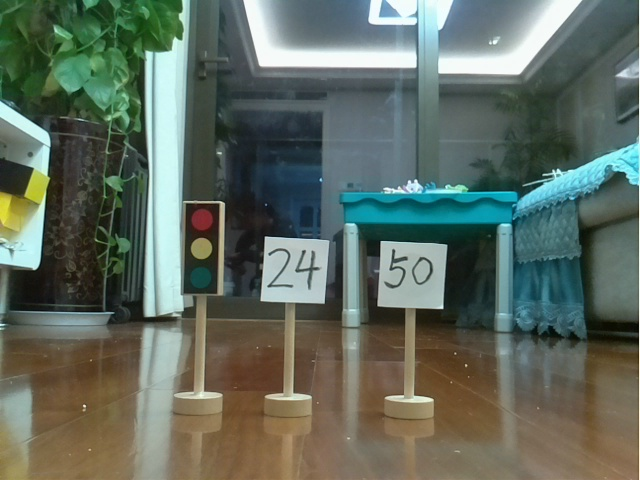Red Traffic Light: (176, 195, 230, 418)
Speed Limit 24: (254, 229, 332, 420)
Speed Limit 50: (375, 233, 454, 428)
